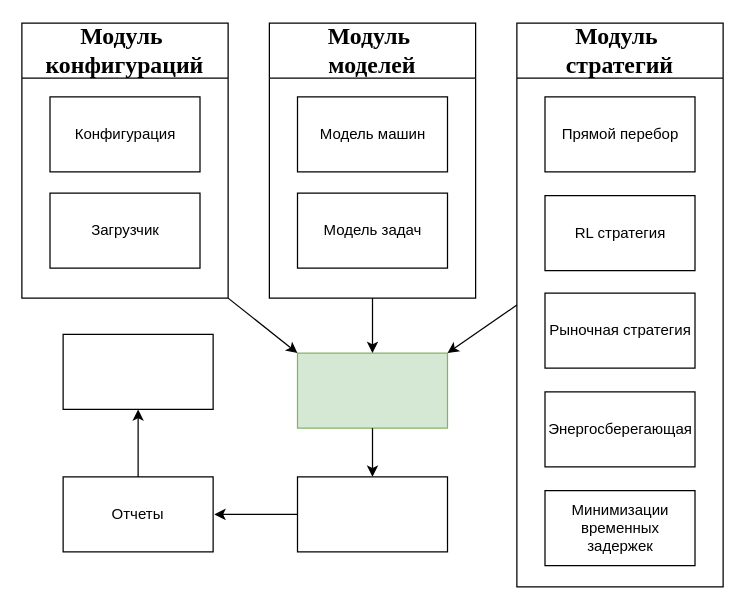
Some shapes in this 745 by 609 pixel diagram are drawn without their labels. The shapes that lost their labels are listed below. From the top down, each one's centre as x and y in pixels, then its label:
(x=137, y=371): Анализ
(x=372, y=390): Главный исполняемый файл
(x=372, y=514): Прогон симуляций
